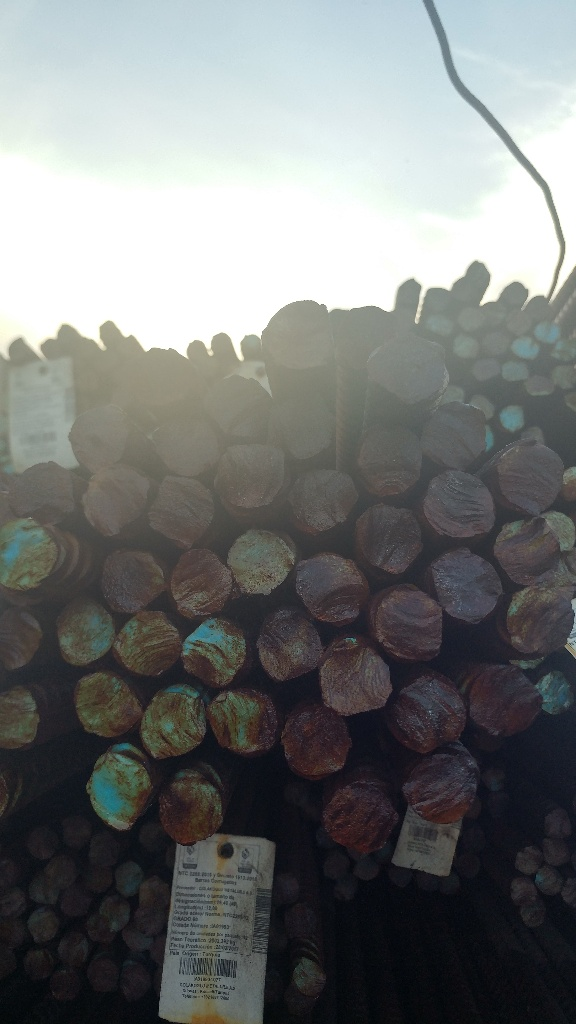dipstick: (254, 297, 334, 370), (86, 752, 154, 836), (388, 678, 464, 752), (419, 472, 500, 540), (471, 664, 545, 738), (75, 466, 151, 538), (323, 780, 398, 851), (365, 340, 446, 405), (217, 441, 289, 513), (293, 551, 361, 627), (51, 601, 128, 667), (406, 753, 478, 823), (369, 591, 442, 660), (487, 519, 561, 587), (321, 641, 392, 711), (69, 396, 139, 466), (502, 588, 574, 655), (143, 688, 209, 761), (71, 671, 140, 740), (431, 553, 501, 621), (351, 431, 424, 496), (494, 439, 560, 509), (281, 710, 353, 774), (254, 614, 323, 680), (272, 396, 340, 462), (352, 507, 420, 572), (149, 472, 215, 538), (210, 690, 279, 752), (163, 552, 233, 613), (161, 774, 222, 842), (113, 612, 181, 673), (286, 469, 353, 530), (182, 617, 243, 683), (222, 530, 287, 591), (415, 408, 484, 464), (103, 547, 163, 611), (9, 462, 76, 519), (1, 525, 58, 591), (218, 376, 272, 435), (4, 613, 43, 679), (1, 692, 39, 754), (534, 663, 572, 714), (292, 955, 326, 995), (93, 893, 129, 927), (90, 836, 125, 869), (24, 827, 62, 857), (48, 856, 81, 889), (285, 904, 318, 937), (30, 880, 66, 910), (58, 819, 91, 851), (84, 960, 120, 987), (470, 352, 502, 382), (119, 967, 151, 997), (57, 932, 86, 965), (142, 881, 175, 909), (20, 949, 53, 977), (25, 912, 59, 939), (268, 875, 298, 905), (319, 851, 350, 880), (49, 968, 78, 998), (62, 890, 95, 916), (132, 908, 168, 931), (531, 867, 563, 892), (526, 374, 554, 402), (541, 837, 569, 865), (501, 405, 527, 435), (125, 929, 157, 953), (113, 867, 141, 894), (452, 853, 478, 882), (452, 333, 484, 356), (467, 262, 494, 289), (512, 337, 540, 363), (497, 361, 527, 385), (352, 857, 382, 881), (458, 308, 483, 336), (5, 887, 28, 917), (481, 332, 510, 355), (505, 280, 529, 307), (482, 765, 505, 793), (470, 391, 497, 414), (483, 304, 510, 327), (508, 311, 536, 333), (535, 323, 560, 347), (417, 872, 442, 896), (517, 848, 541, 872), (388, 862, 413, 885), (544, 811, 568, 834), (509, 880, 531, 905), (529, 298, 551, 322), (523, 900, 544, 924), (425, 315, 450, 335), (564, 877, 576, 902)
